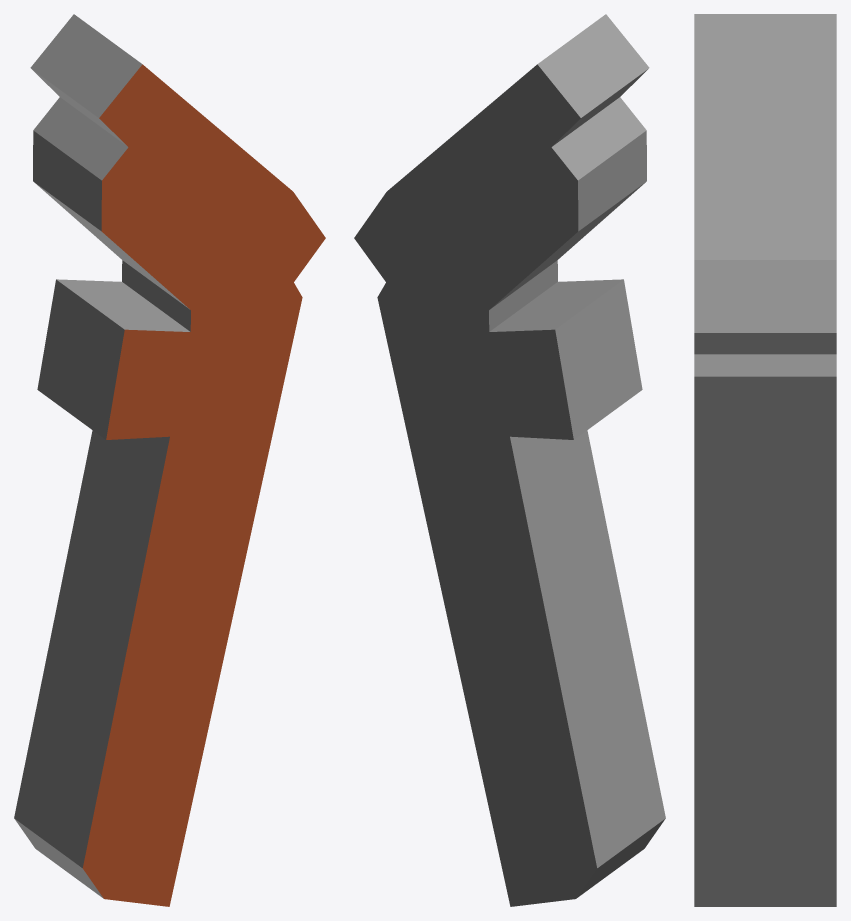
Rendered from construction_3171_assumed_A_Casa_h6m.obj.
The picture shows the model from 3 angles, left to right: view 1: azimuth 30°, elevation 25°; view 2: azimuth 150°, elevation 25°; view 3: azimuth 270°, elevation 25°; orthographic projection. The views are drawn at different scales.
Visible parts, largest first — view 1: construction_3171_assumed_A_Casa; view 2: construction_3171_assumed_A_Casa; view 3: construction_3171_assumed_A_Casa.
Boxes of the visible parts, x1,y1,x2,y2 form: construction_3171_assumed_A_Casa: (14, 14, 325, 906); construction_3171_assumed_A_Casa: (354, 14, 665, 906); construction_3171_assumed_A_Casa: (694, 14, 836, 906).
Size of the model in its own units: 12.27 by 40.92 by 6.
